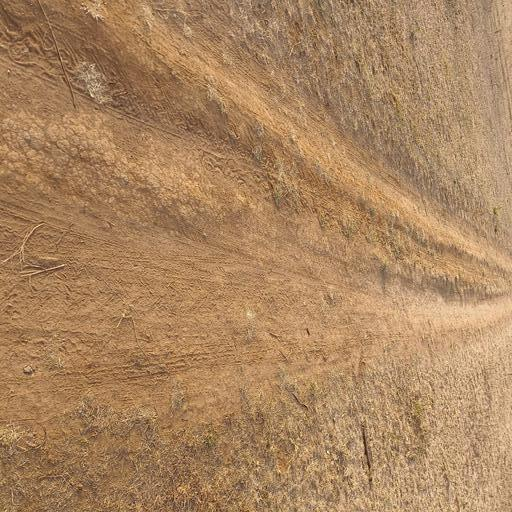vehicle_track: (0, 204, 512, 411), (141, 0, 512, 271)
